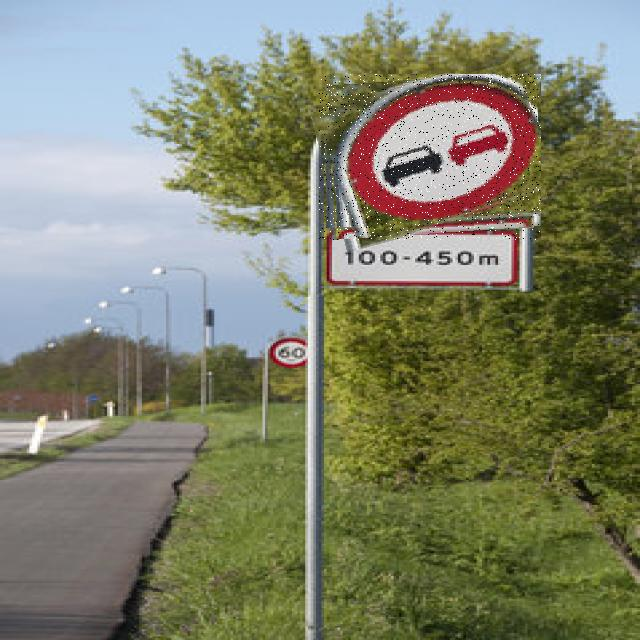no overtaking: (319, 74, 541, 240)
